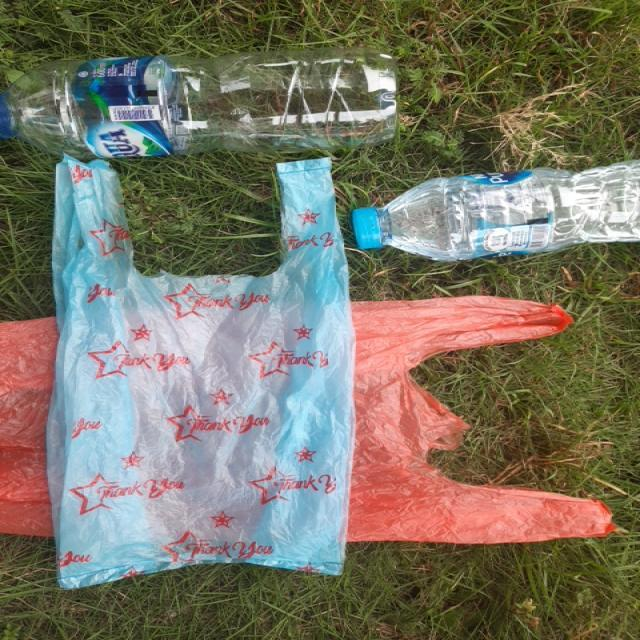Single-layer Plastic: (46, 156, 354, 588), (349, 296, 614, 543), (0, 318, 55, 536)
